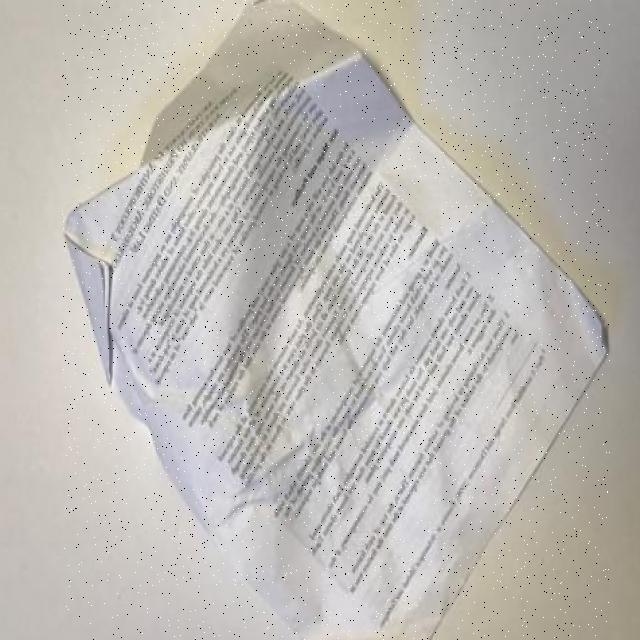paper: (62, 0, 610, 640)
